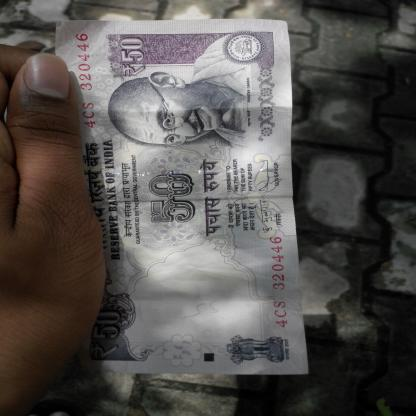Old50Front: (55, 18, 310, 376)
